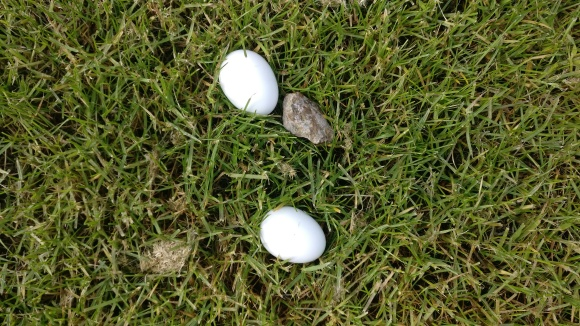egg: (217, 48, 280, 115), (257, 204, 327, 264)
